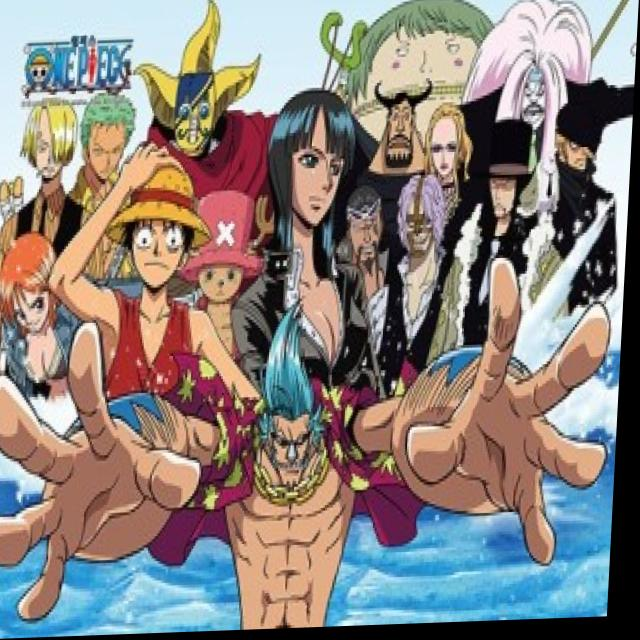Chyopa: (183, 192, 271, 308)
Franky: (254, 296, 344, 490)
Luffy: (111, 151, 211, 294)
Nami: (0, 231, 68, 337)
NicoRobin: (264, 89, 364, 244)
Sangdi: (14, 85, 82, 194)
Usopp: (132, 0, 270, 161)
Zoro: (76, 92, 139, 183)
